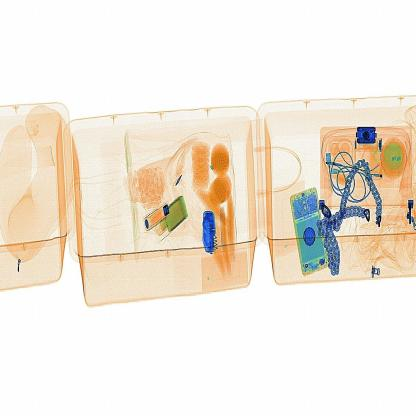scissors: (193, 199, 227, 270)
